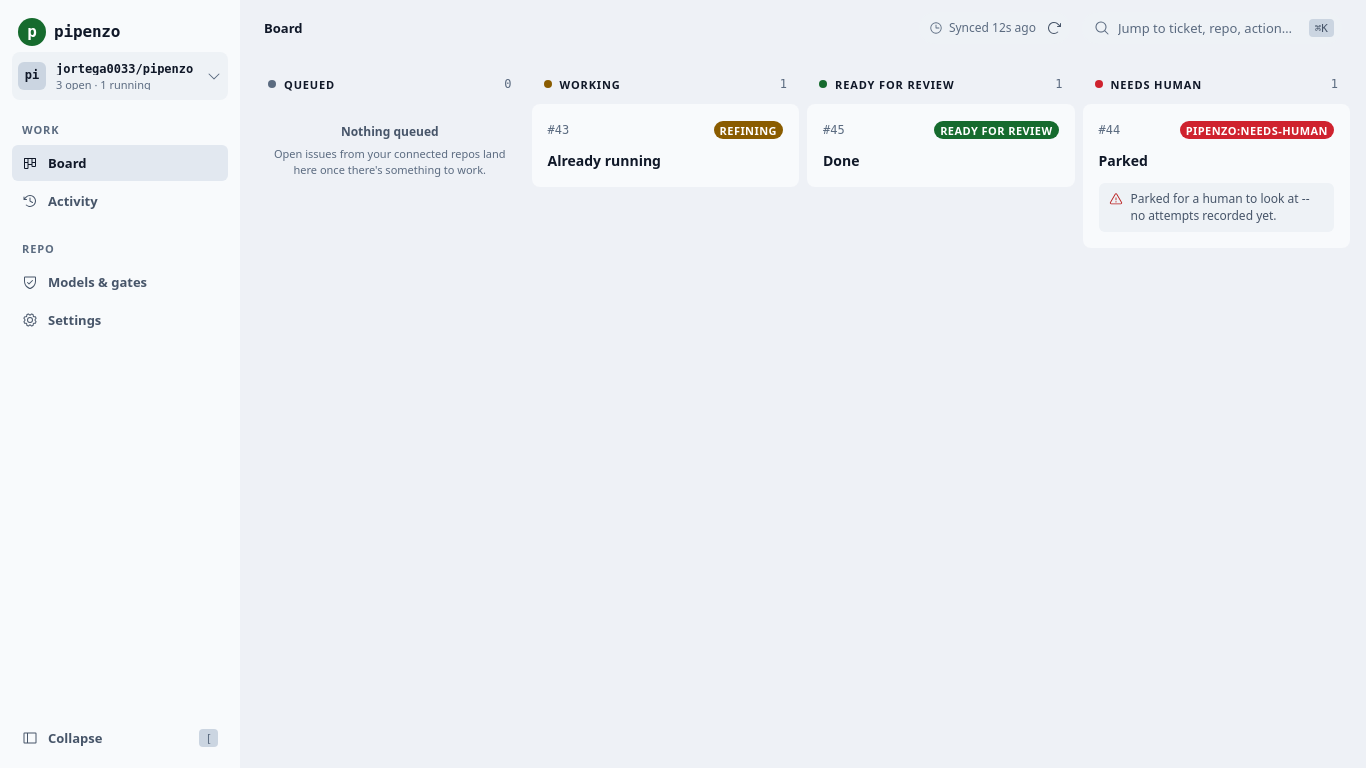
Scenario: PipenzoAppShell › opens Ticket Detail, not Implement, from every other lane (issue #341)
Click the text "Already running".
click(604, 160)  # box [548,151,661,170]
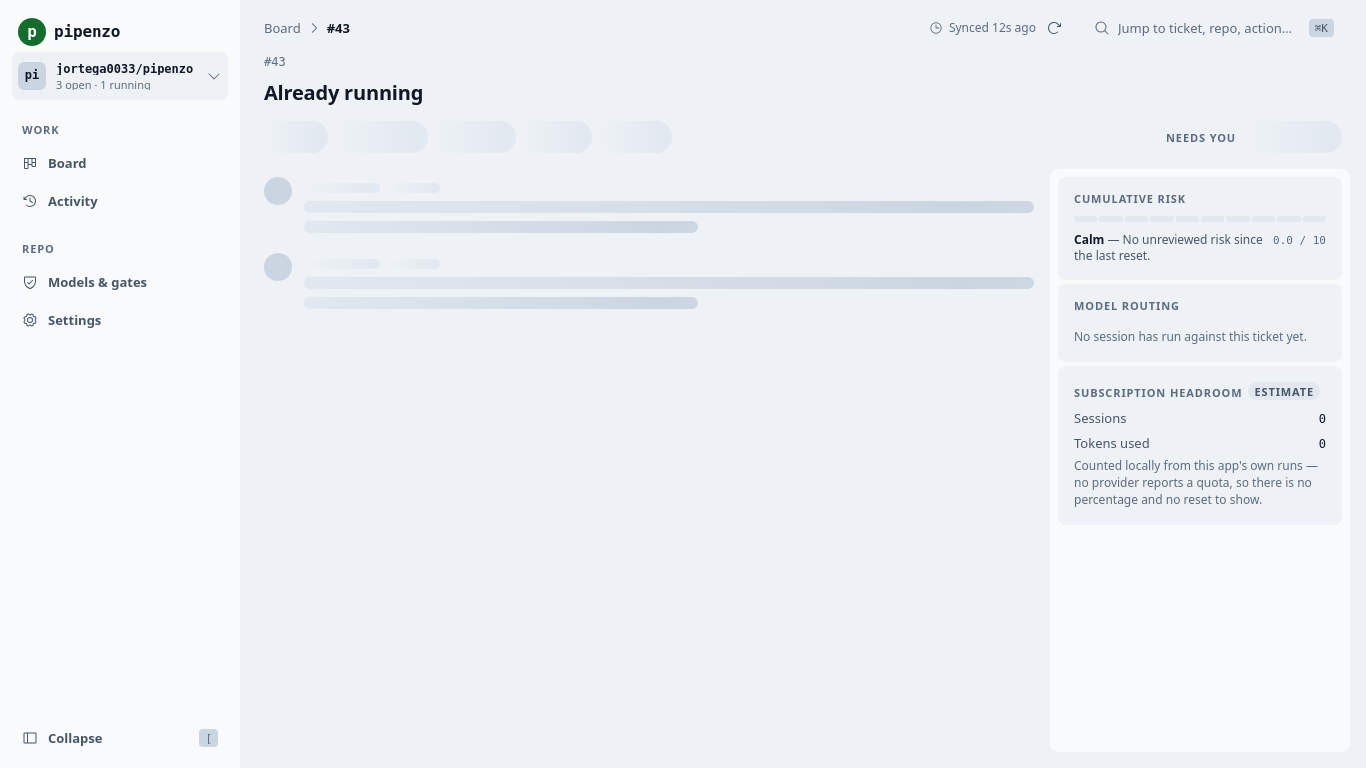
Check: the text with class "cur" reads "#43", box [327,18,350,36]
Click the button "Board" below "Work".
click(54, 163)  # box [22,154,86,172]
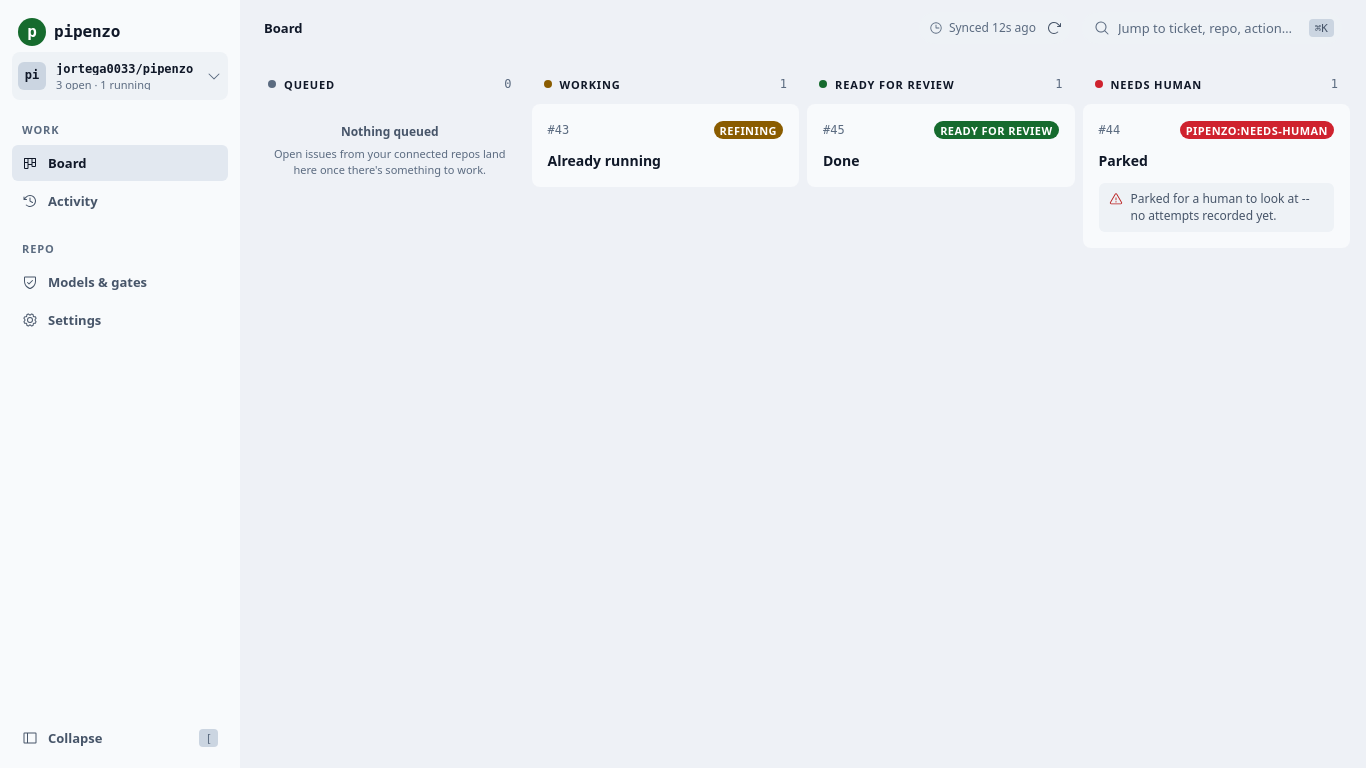
Check: the text "Parked" is shown
Click the text "Parked".
click(1123, 160)  # box [1098,151,1148,170]
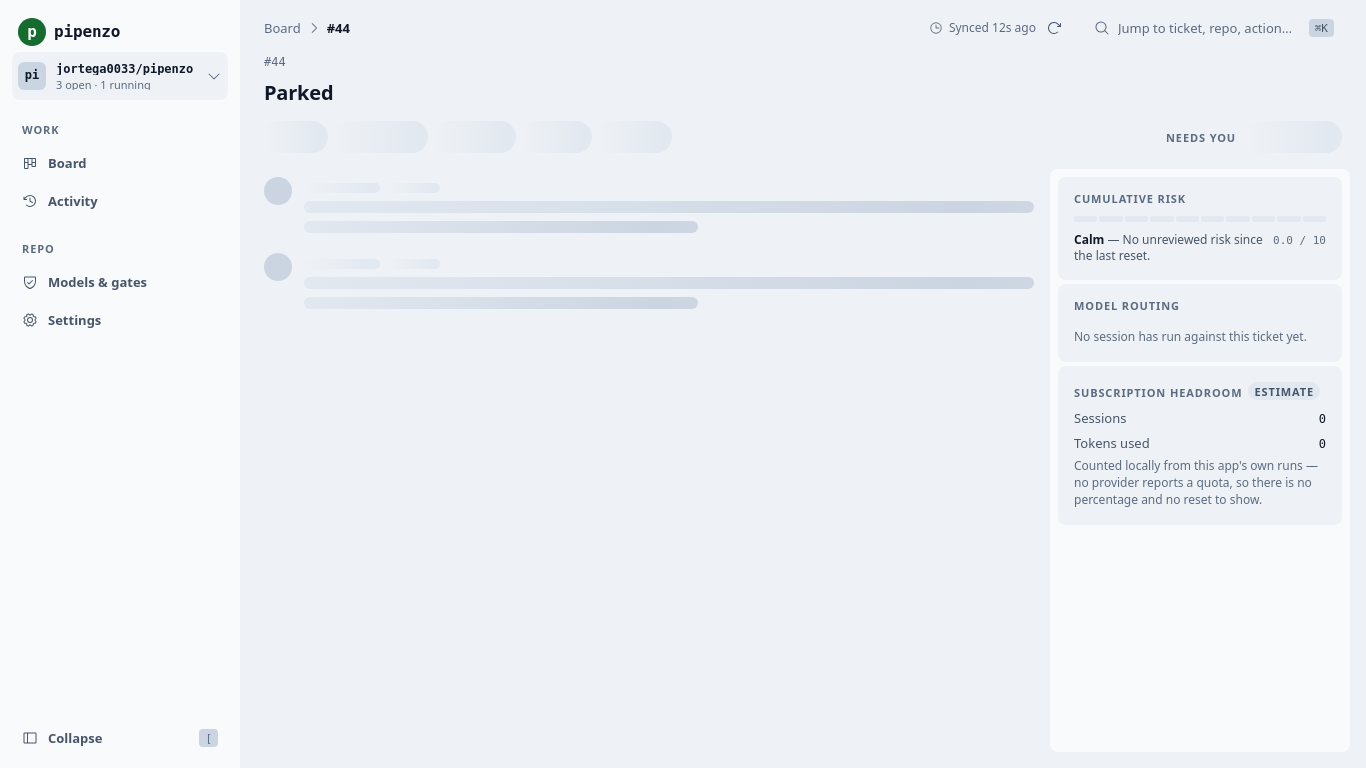
Check: the text with class "cur" reads "#44", box [327,18,350,36]
Click the button "Board" below "Work".
click(54, 163)  # box [22,154,86,172]
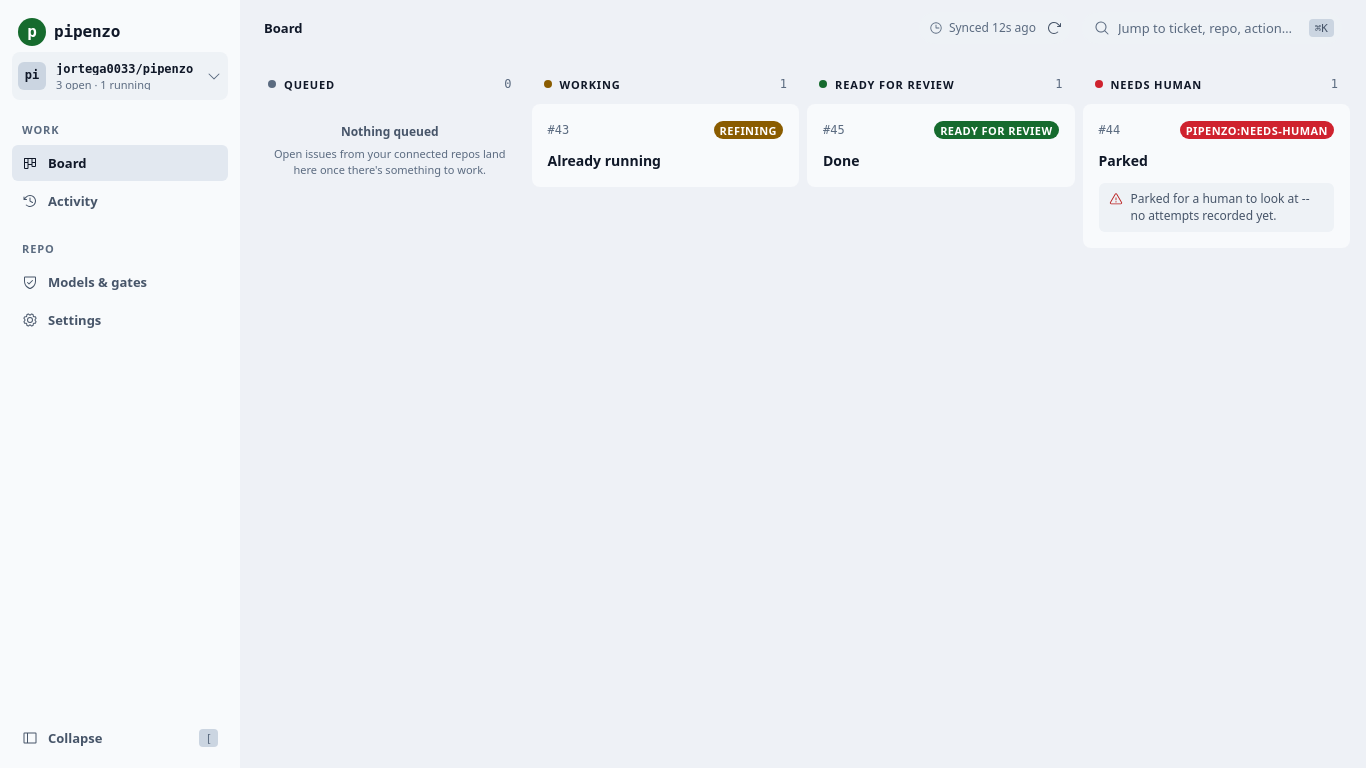
Check: the text "Done" is shown
Click the text "Done".
click(841, 160)  # box [823,151,860,170]
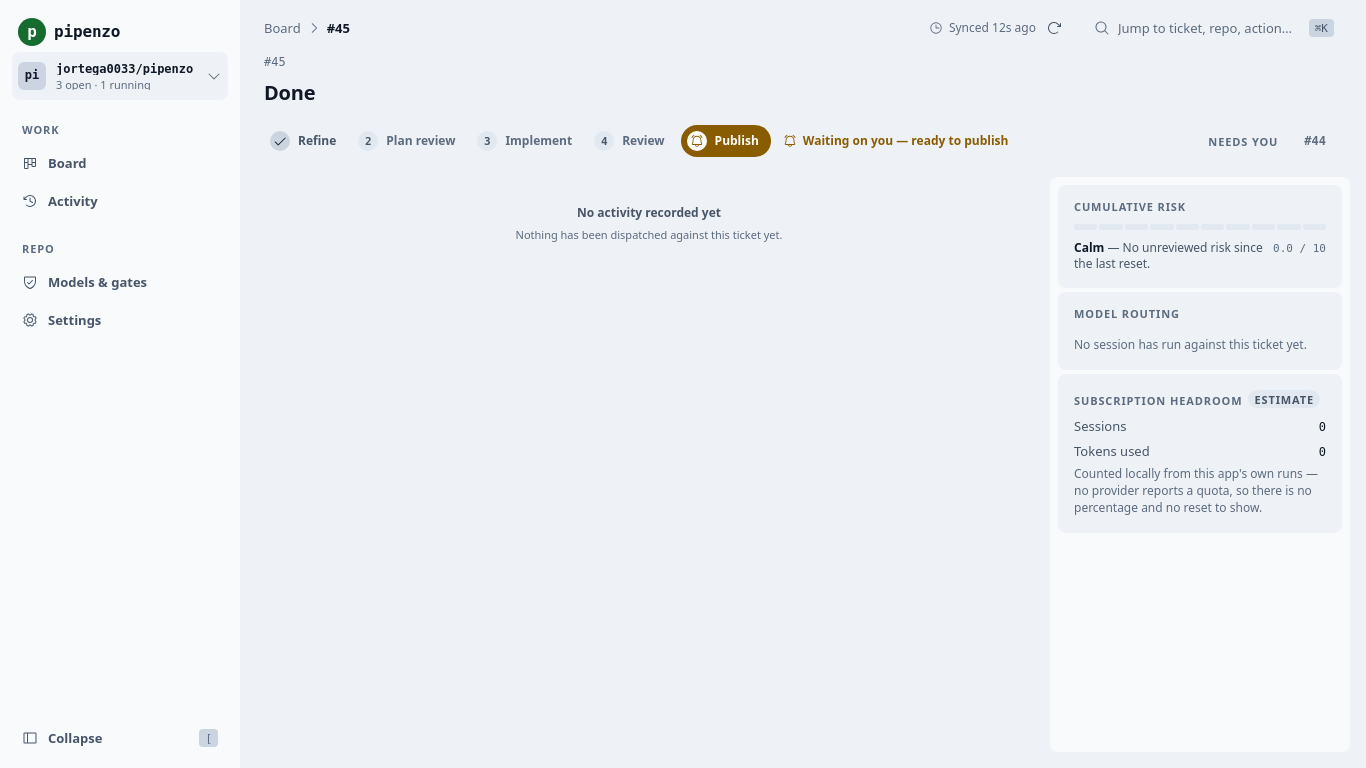
Check: the text with class "cur" reads "#45", box [327,18,350,36]
